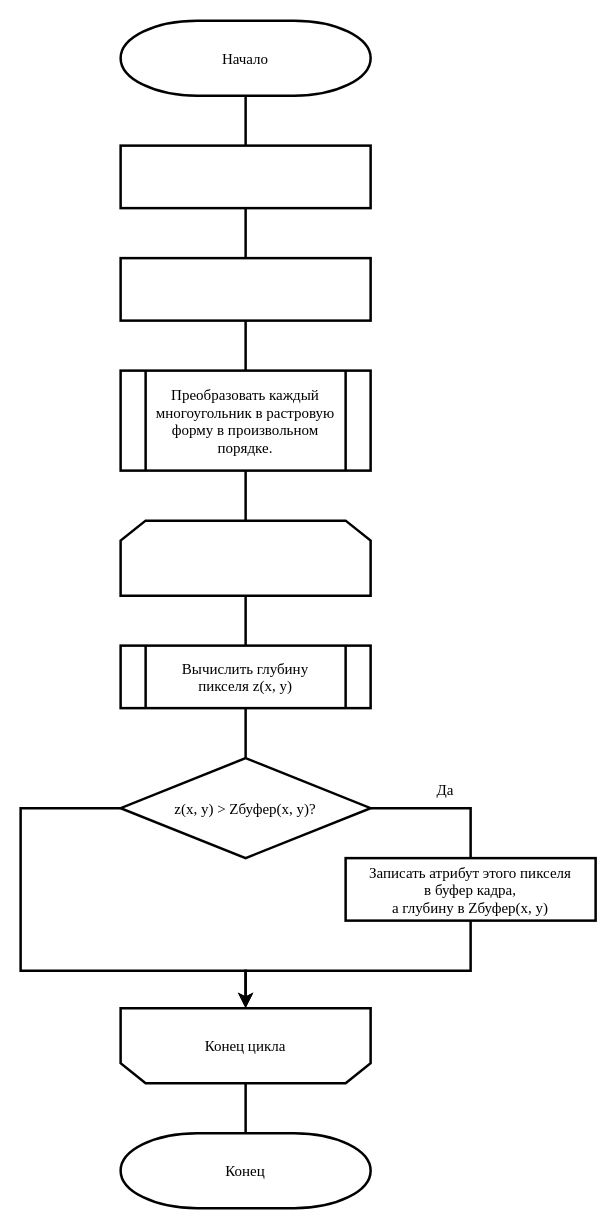
The diagram is 616 pixels wide and 1229 high, and some of its shapes have lost their labels. Each missing label, with the box of its shape:
Заполнить z-буфер минимальным значением z: (119, 256, 371, 321)
Заполнить буфер кадра фоновым значением интенсивности или цвета: (119, 144, 371, 209)
Цикл по всем пикселям в многоугольнике: (119, 519, 371, 596)
